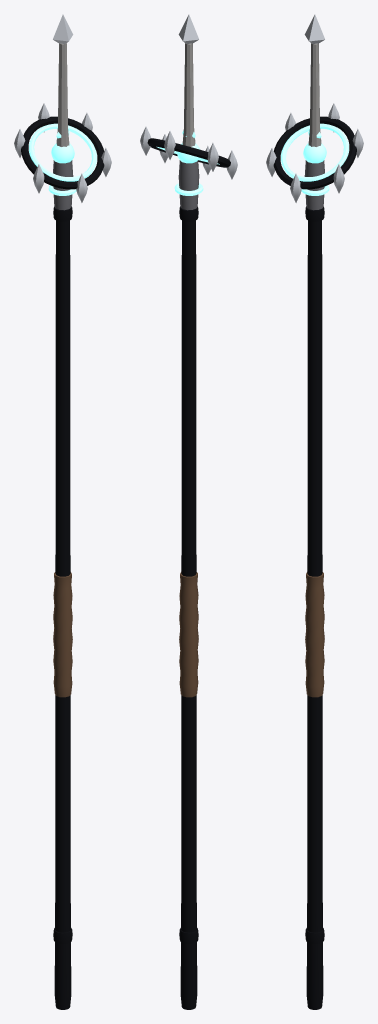
Rendered from esc_w_ranger_javelin_2.glb.
3 views of the same model, side by side, from view 1: azimuth 30°, elevation 25°; view 2: azimuth 150°, elevation 25°; view 3: azimuth 330°, elevation 25° (orthographic).
Parts seen in each view (by area): view 1: esc_w_ranger_javelin_2; view 2: esc_w_ranger_javelin_2; view 3: esc_w_ranger_javelin_2.
Part boxes in pixels (<box>): esc_w_ranger_javelin_2: <box>14,14,111,1009</box>; esc_w_ranger_javelin_2: <box>140,14,237,1009</box>; esc_w_ranger_javelin_2: <box>266,14,363,1009</box>.
Size of the model in its own units: 0.132 by 1.65 by 0.132.
